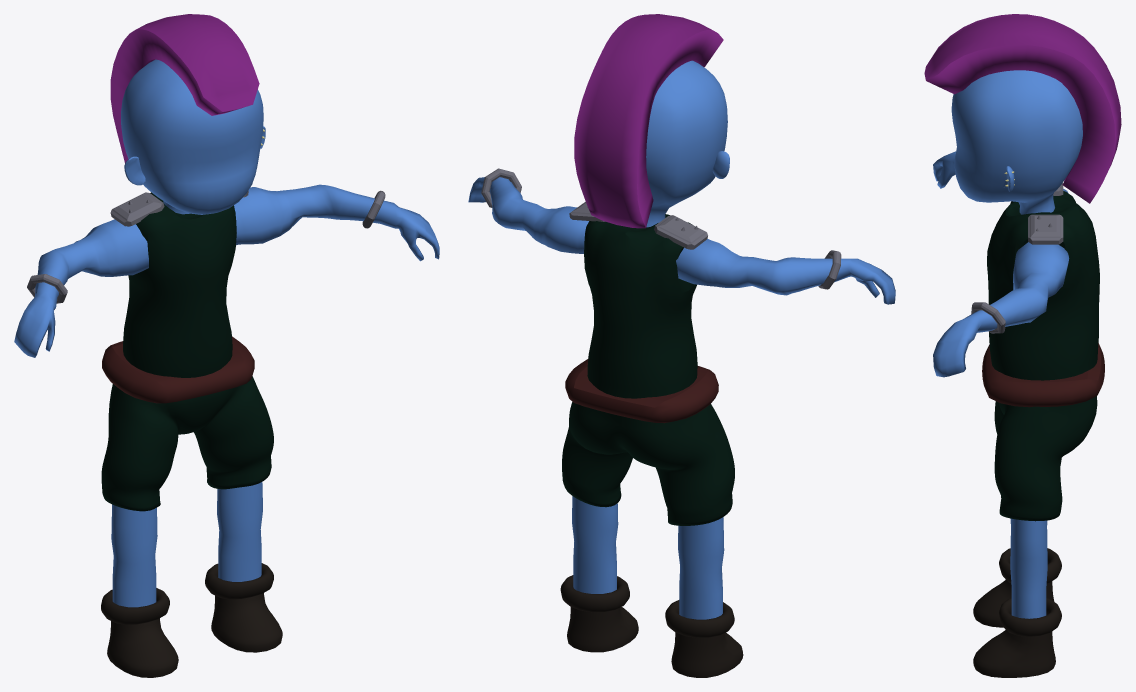
Rendered from Grunt.fbx.
The picture shows the model from 3 angles, left to right: view 1: azimuth 30°, elevation 25°; view 2: azimuth 150°, elevation 25°; view 3: azimuth 270°, elevation 25°; orthographic projection.
Visible parts, largest first — view 1: Torso(Grunt), Head, Pants(Grunt), Hair(Grunt).001, L_Arm(Grunt), R_Arm(Grunt), L_Shoe(Grunt), R_Shoe(Grunt), Belt(Grunt), R_Leg(Grunt), L_Leg(Grunt), ShoulderPads (+1 smaller); view 2: Torso(Grunt), Hair(Grunt).001, Pants(Grunt), Head, R_Arm(Grunt), Belt(Grunt), R_Leg(Grunt), L_Arm(Grunt), L_Shoe(Grunt), R_Shoe(Grunt), L_Leg(Grunt), ShoulderPads (+1 smaller); view 3: Head, Hair(Grunt).001, Torso(Grunt), Pants(Grunt), L_Arm(Grunt), L_Shoe(Grunt), Belt(Grunt), L_Leg(Grunt), R_Shoe(Grunt), ShoulderPads, R_Arm(Grunt), Bracelets.
Part boxes in pixels (x1,y1,x2,y2): Torso(Grunt): [123, 192, 236, 377]; Head: [121, 59, 263, 214]; Pants(Grunt): [101, 376, 273, 511]; Hair(Grunt).001: [110, 14, 259, 163]; L_Arm(Grunt): [234, 184, 439, 261]; R_Arm(Grunt): [14, 219, 148, 357]; L_Shoe(Grunt): [205, 563, 282, 652]; R_Shoe(Grunt): [101, 588, 178, 677]; Belt(Grunt): [102, 336, 254, 403]; R_Leg(Grunt): [111, 504, 157, 607]; L_Leg(Grunt): [217, 482, 262, 581]; ShoulderPads: [110, 190, 248, 226]; Torso(Grunt): [584, 214, 697, 398]; Hair(Grunt).001: [574, 14, 723, 228]; Pants(Grunt): [562, 402, 734, 525]; Head: [646, 60, 727, 227]; R_Arm(Grunt): [676, 239, 895, 304]; Belt(Grunt): [565, 359, 718, 423]; R_Leg(Grunt): [678, 517, 724, 619]; L_Arm(Grunt): [468, 177, 588, 253]; L_Shoe(Grunt): [560, 575, 638, 652]; R_Shoe(Grunt): [665, 600, 743, 677]; L_Leg(Grunt): [572, 496, 618, 593]; ShoulderPads: [569, 201, 707, 249]; Head: [951, 70, 1082, 214]; Hair(Grunt).001: [924, 14, 1121, 203]; Torso(Grunt): [987, 191, 1099, 380]; Pants(Grunt): [994, 396, 1097, 521]; L_Arm(Grunt): [933, 242, 1069, 377]; L_Shoe(Grunt): [973, 598, 1061, 677]; Belt(Grunt): [982, 343, 1104, 407]; L_Leg(Grunt): [1010, 518, 1047, 618]; R_Shoe(Grunt): [973, 548, 1061, 627]; ShoulderPads: [1028, 183, 1063, 244]; R_Arm(Grunt): [933, 151, 1068, 193]; Bracelets: [971, 302, 1005, 333].
Size of the model in its own units: 1209 by 1728 by 500.
